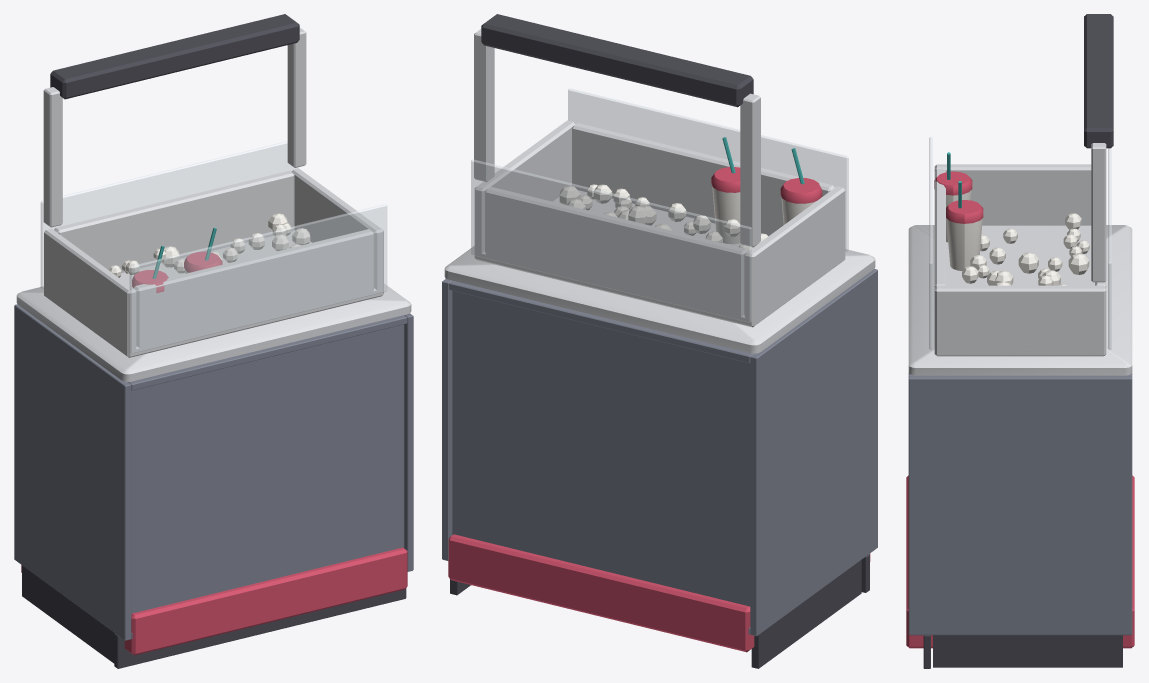
Rendered from cinema-multiplex-and-foyer-popcorn-warmer-bin-e1fd81fa__34667.glb.
The picture shows the model from 3 angles, left to right: view 1: azimuth 30°, elevation 25°; view 2: azimuth 150°, elevation 25°; view 3: azimuth 270°, elevation 25°; orthographic projection. The views are drawn at different scales.
Visible parts, largest first — view 1: popcorn-warmer-bin; view 2: popcorn-warmer-bin; view 3: popcorn-warmer-bin.
Part boxes in pixels (box(x1,y1,x2,y2)): popcorn-warmer-bin: box(14, 14, 413, 668); popcorn-warmer-bin: box(442, 14, 877, 668); popcorn-warmer-bin: box(906, 14, 1134, 668).
Size of the model in its own units: 0.9001 by 1.56 by 0.612.
